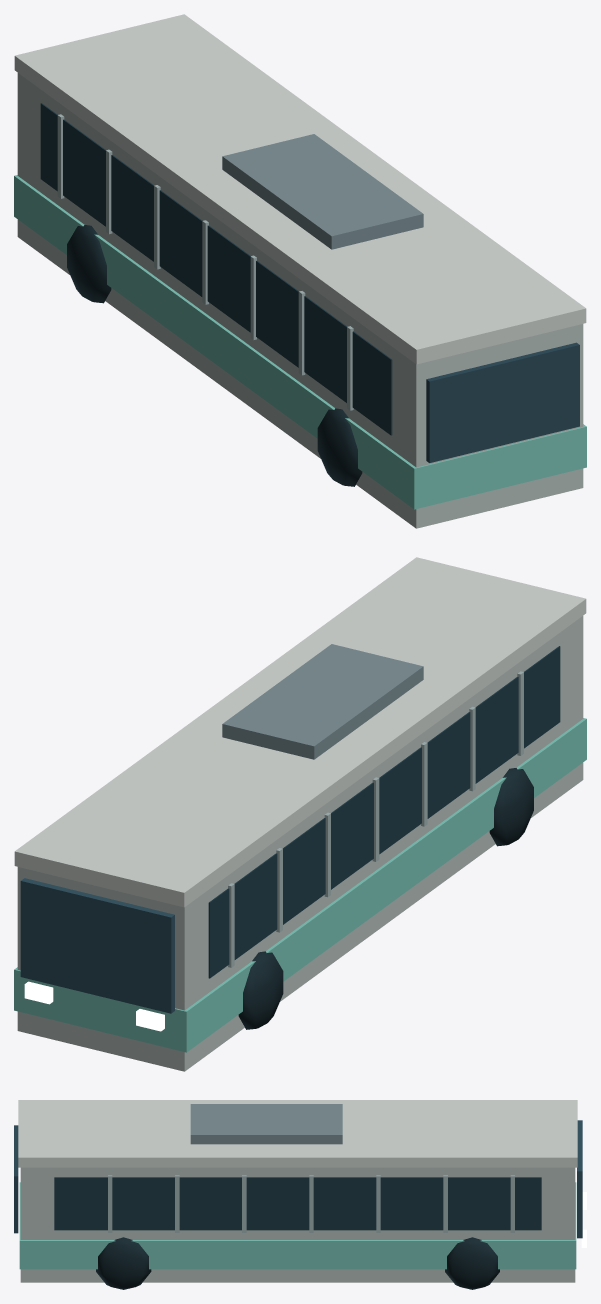
The model's file is bus.glb.
The picture shows the model from 3 angles, top to bottom: view 1: azimuth 30°, elevation 25°; view 2: azimuth 150°, elevation 25°; view 3: azimuth 270°, elevation 25°; orthographic projection. The views are drawn at different scales.
Visible parts, largest first — view 1: bus; view 2: bus; view 3: bus.
Boxes of the visible parts, bbox=[...] form: bus: bbox=[14, 14, 586, 528]; bus: bbox=[14, 557, 586, 1071]; bus: bbox=[14, 1100, 586, 1289].
Size of the model in its own units: 3.53 by 3.5 by 12.81.
